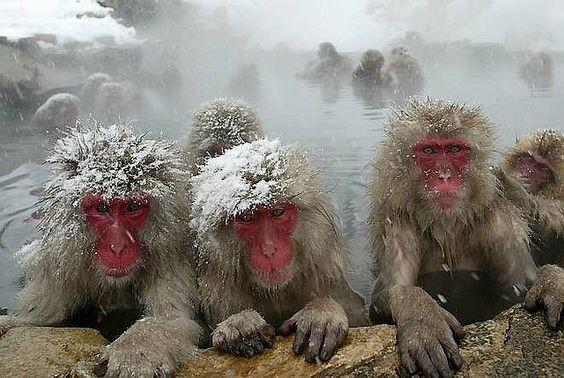monkey: (185, 100, 364, 364)
